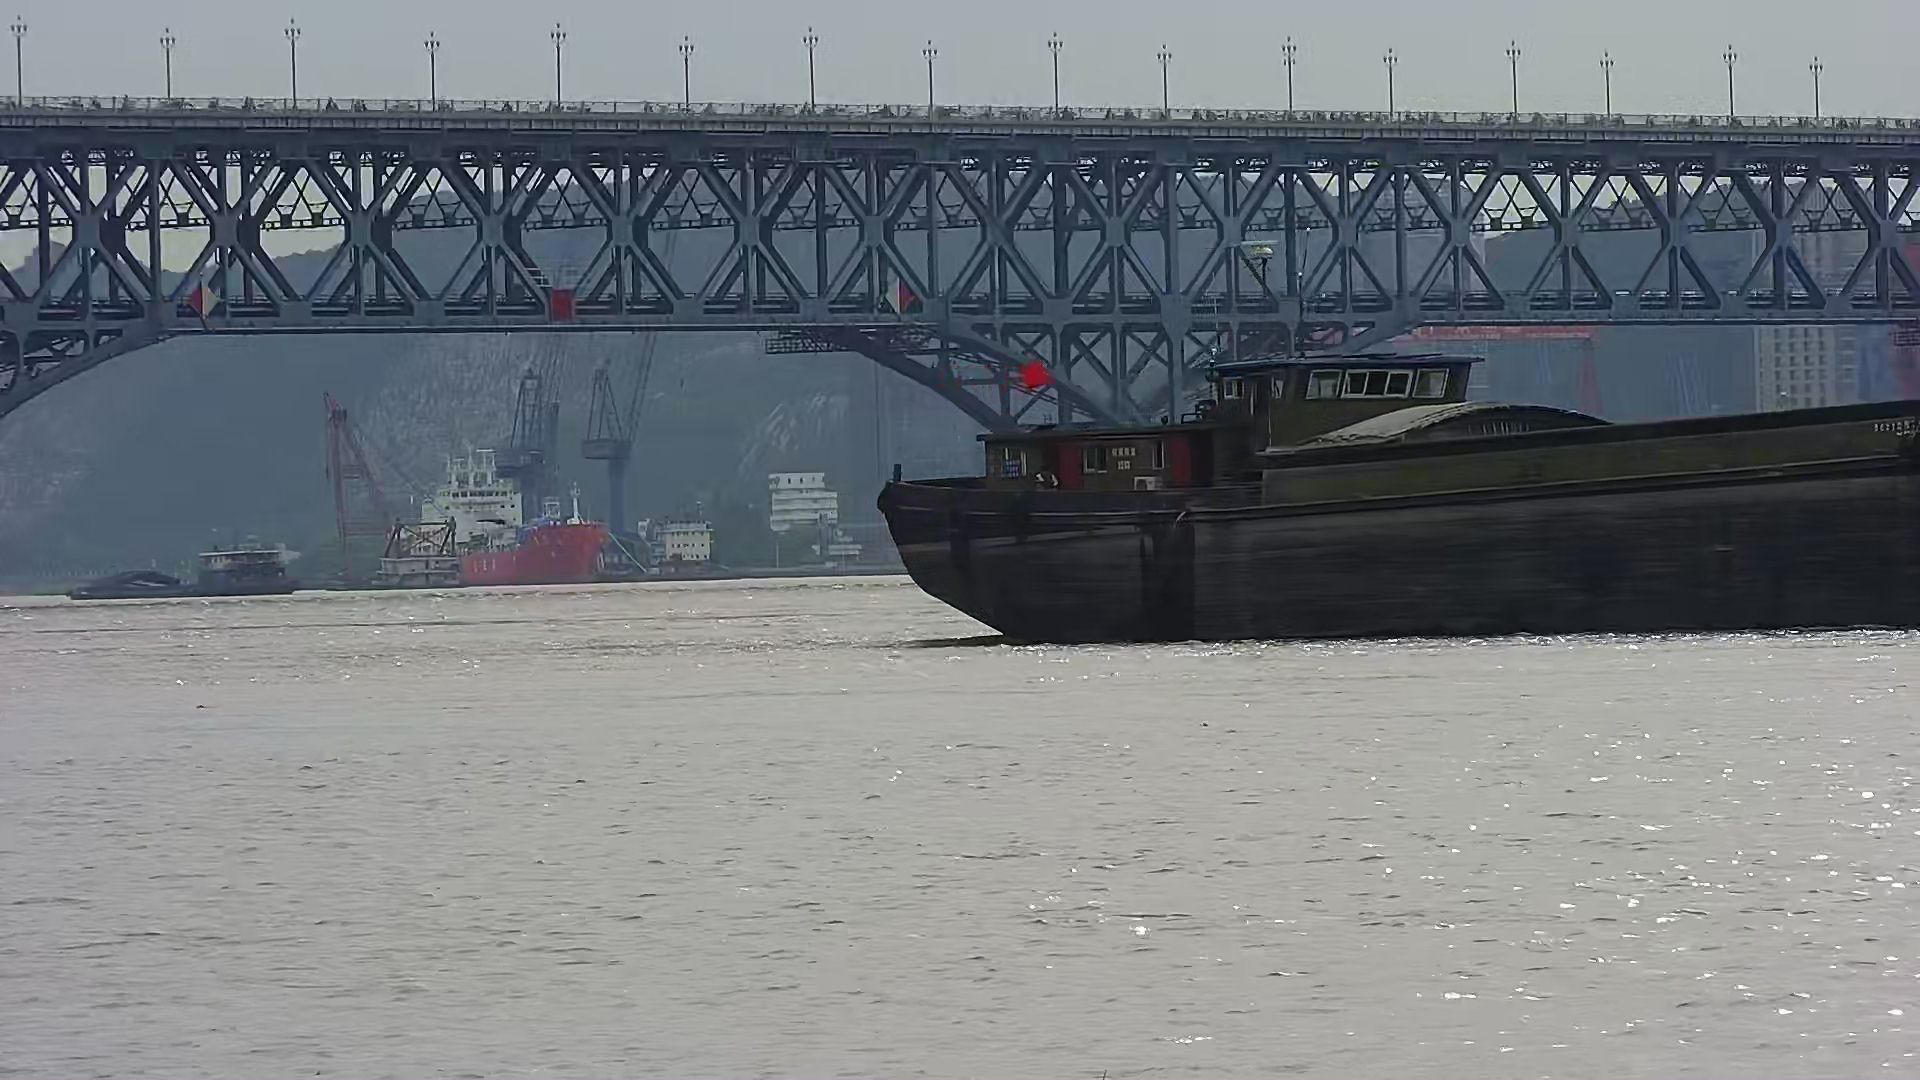bridge: (3, 11, 1913, 477)
ship: (876, 357, 1920, 655), (454, 477, 622, 597), (44, 531, 313, 603)
